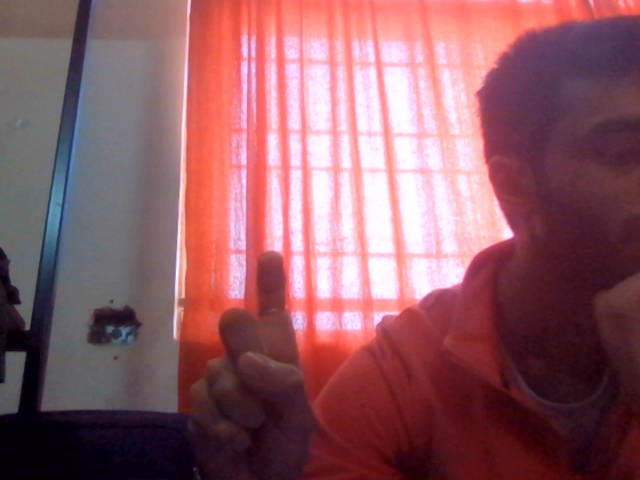X: (190, 227, 381, 480)
